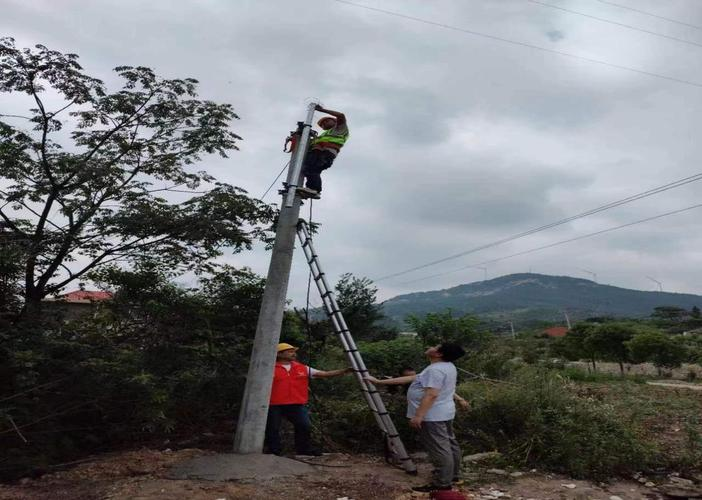安全帽、工作服均未穿戴的工作人员: (362, 339, 466, 499)
